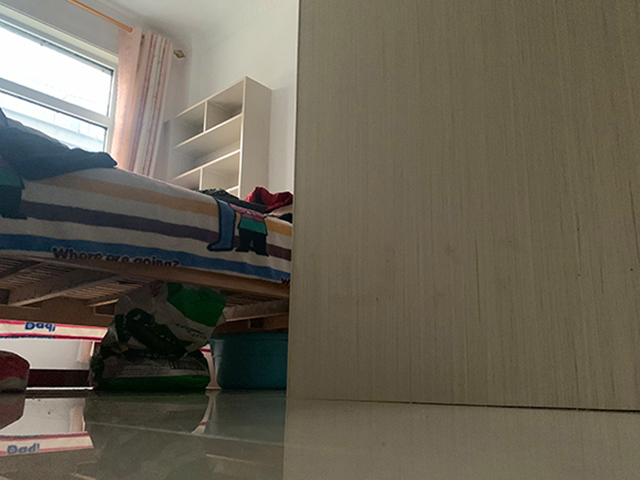bed: (1, 111, 294, 342)
curtain: (111, 24, 174, 182)
